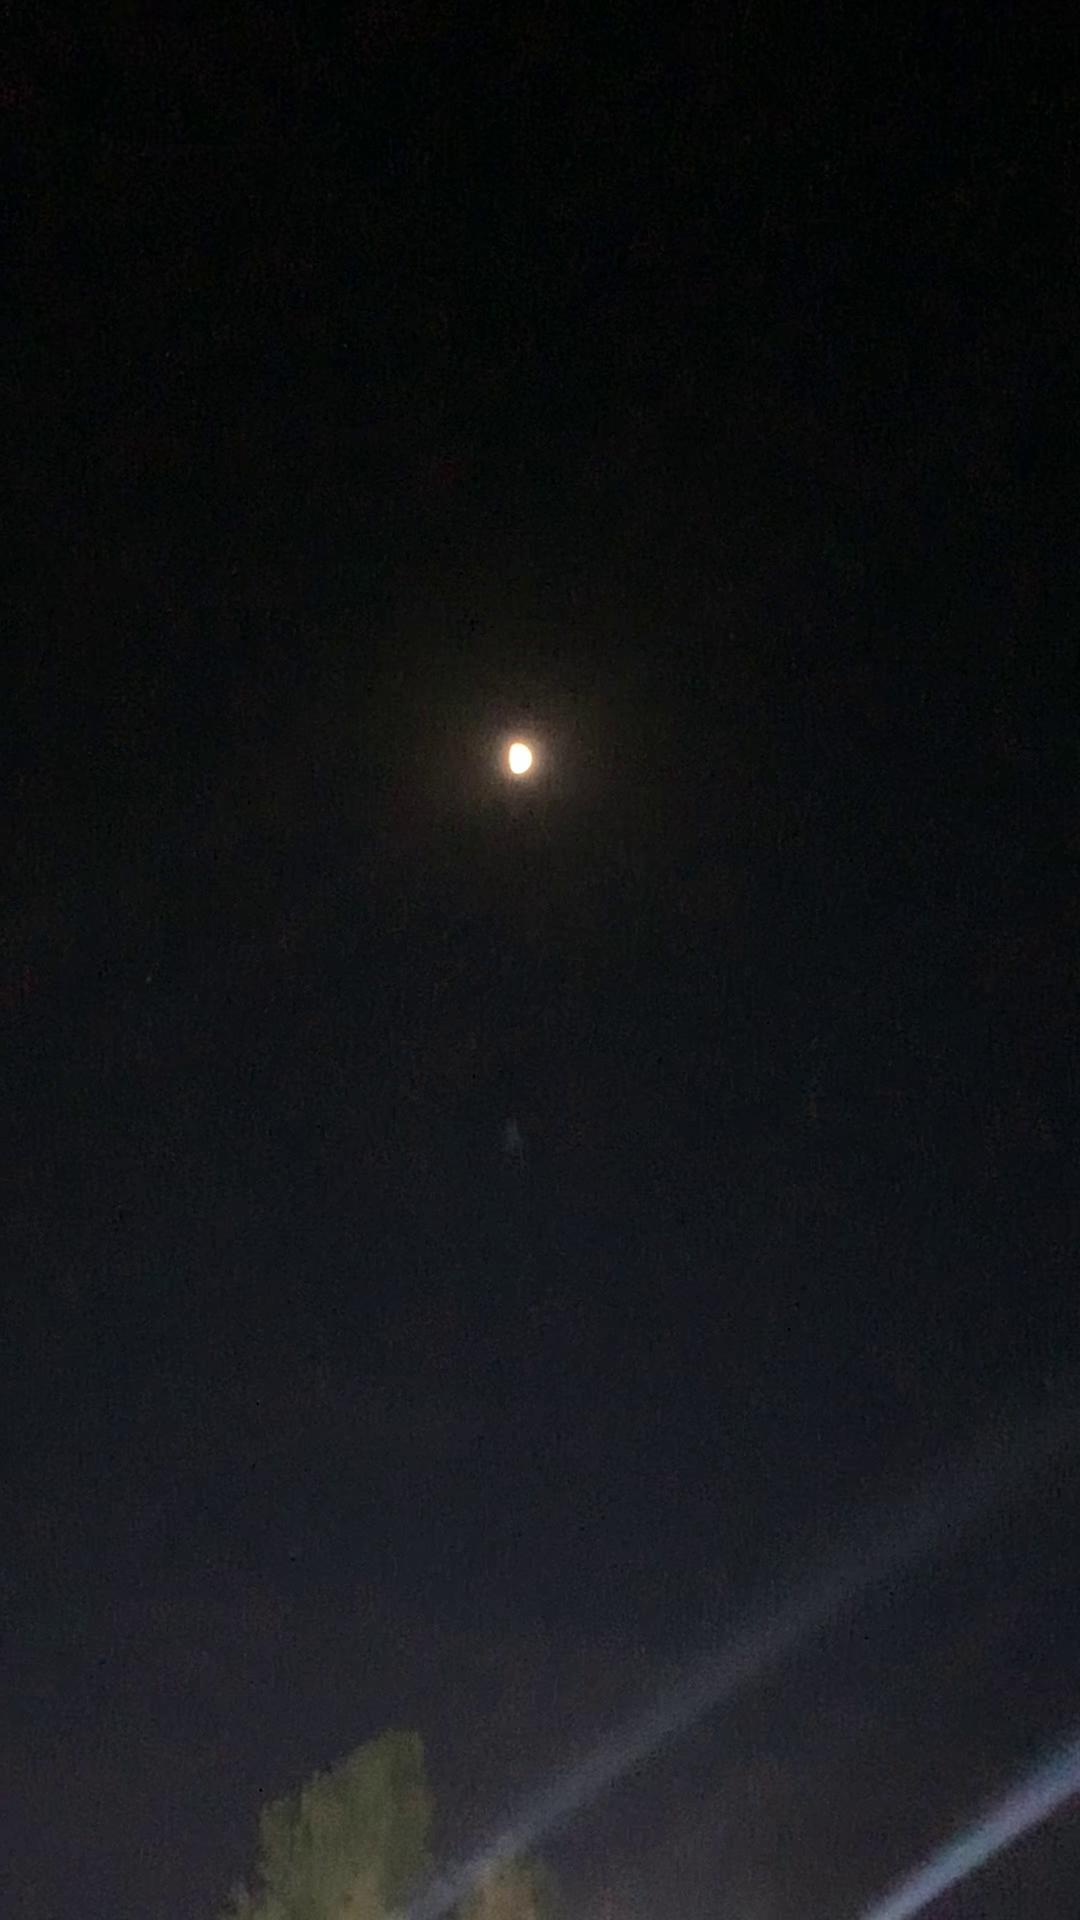moon: (464, 716, 553, 808)
